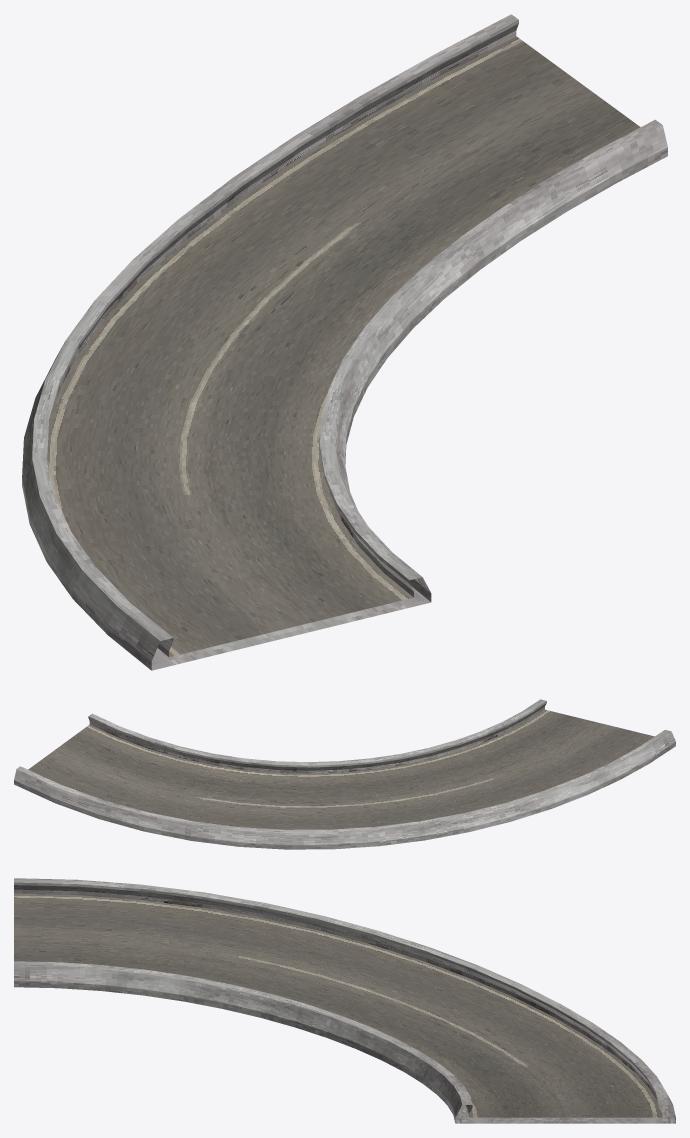
Rendered from road-Turn-Flat-BiSlopeUp-Up1-Right-Size3.glb.
3 views of the same model, one above another, from view 1: azimuth 30°, elevation 25°; view 2: azimuth 150°, elevation 25°; view 3: azimuth 270°, elevation 25° (orthographic). The views are drawn at different scales.
Parts seen in each view (by area): view 1: road-Turn-Flat-BiSlopeUp-Up1-Right-Size3; view 2: road-Turn-Flat-BiSlopeUp-Up1-Right-Size3; view 3: road-Turn-Flat-BiSlopeUp-Up1-Right-Size3.
Part boxes in pixels (box(x1,y1,x2,y2)): road-Turn-Flat-BiSlopeUp-Up1-Right-Size3: box(22, 14, 667, 670); road-Turn-Flat-BiSlopeUp-Up1-Right-Size3: box(14, 699, 675, 849); road-Turn-Flat-BiSlopeUp-Up1-Right-Size3: box(14, 878, 675, 1123).
Bounding box in the file's own units: 3 × 0.3758 × 3.
2 materials, 2 textured.
